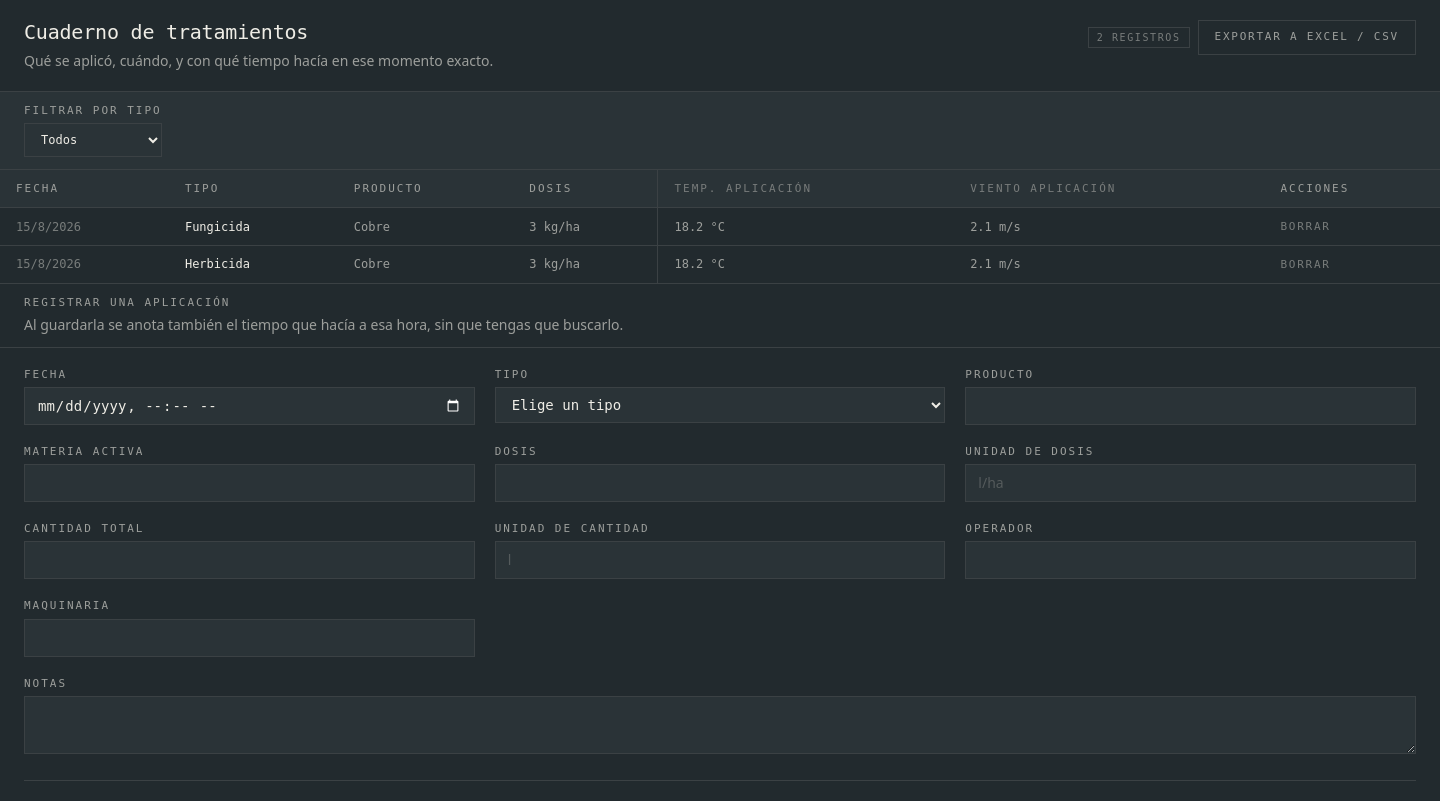
Scenario: filtrar por tipo no reduce las opciones del formulario de alta
Expected: the text "Fungicida" is shown, [169,208,338,246]
Select "Herbicida" in the dropdown labelled "Filtrar por tipo" at [93, 140], box [24,123,162,157]
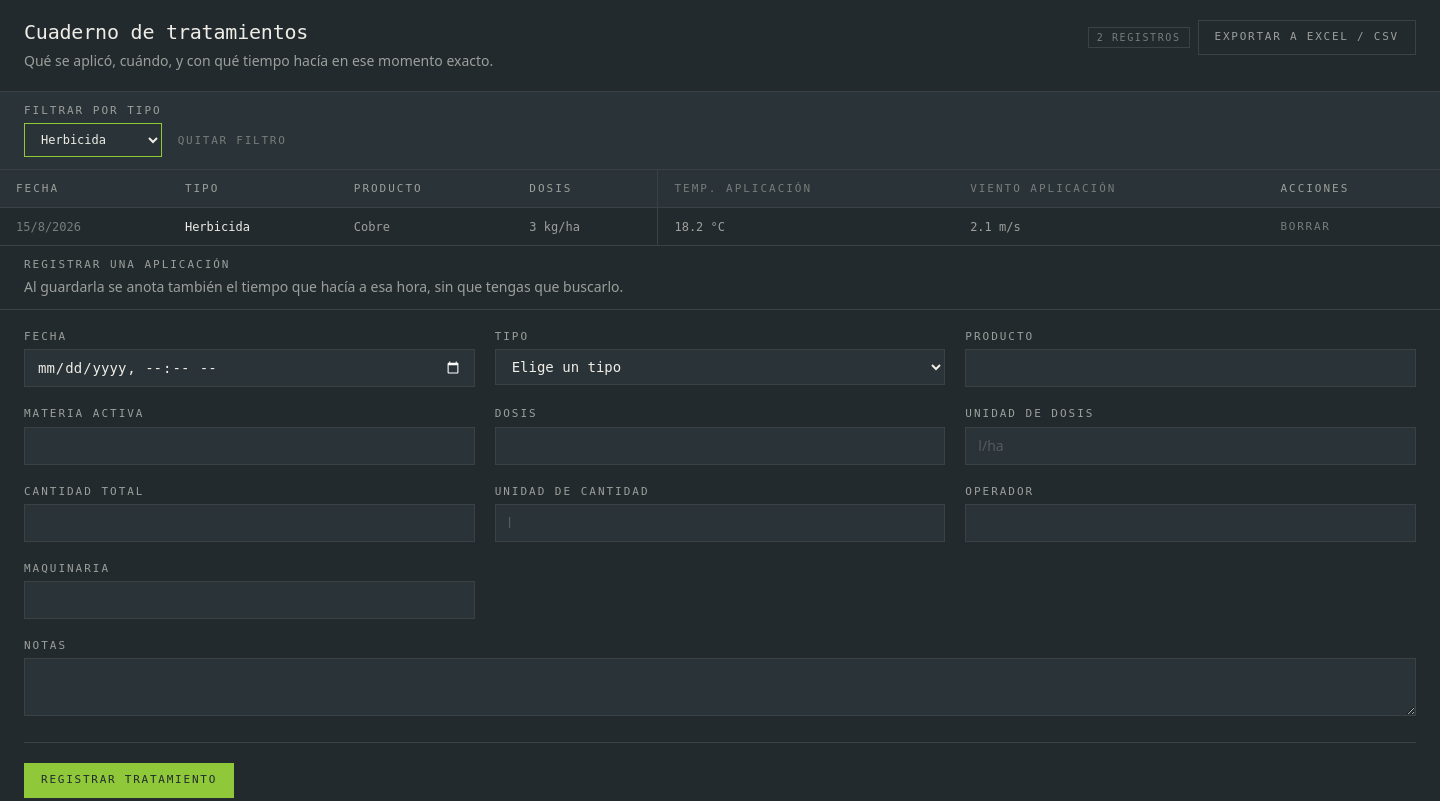
Expected: the text "Herbicida" is shown, [169,208,338,245]
Result: the text "Fungicida" is gone
